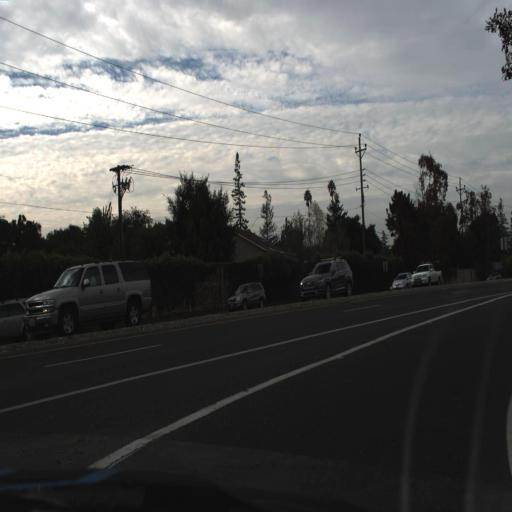car: (23, 260, 154, 333), (299, 257, 355, 303), (0, 295, 37, 347), (225, 280, 267, 313), (411, 257, 443, 292), (389, 267, 410, 294)
